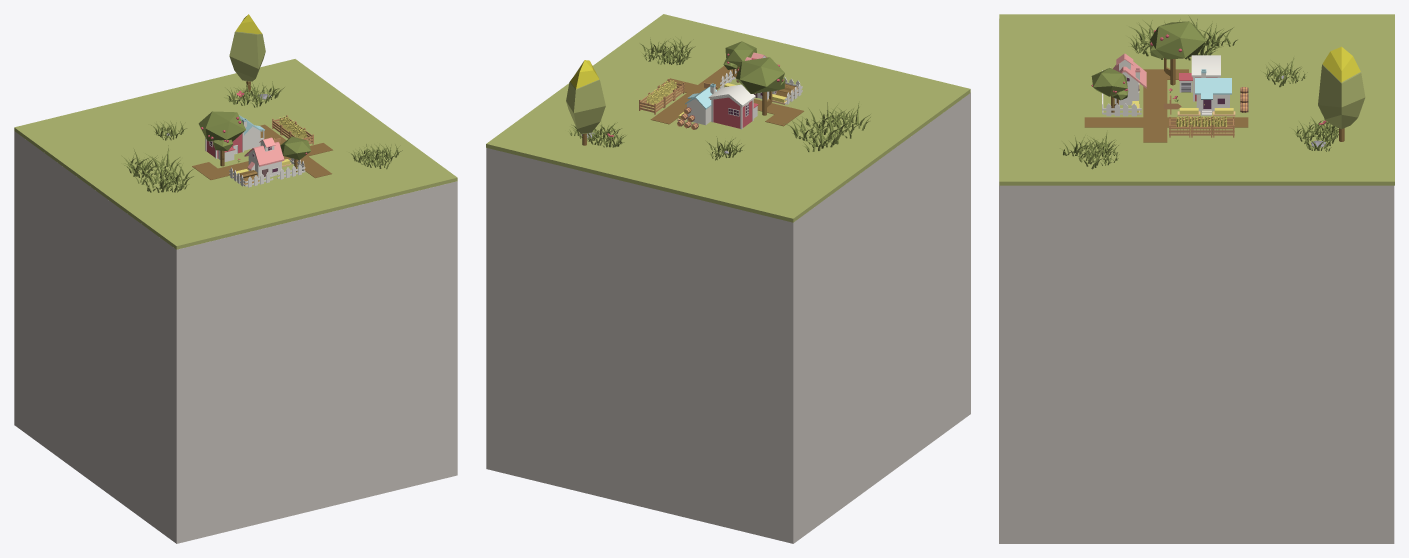
File: Country1.fbx
The picture shows the model from 3 angles, left to right: view 1: azimuth 30°, elevation 25°; view 2: azimuth 150°, elevation 25°; view 3: azimuth 270°, elevation 25°; orthographic projection. The views are drawn at different scales.
Visible parts, largest first — view 1: coun_1; view 2: coun_1; view 3: coun_1.
Boxes of the visible parts, x1,y1,x2,y2 form: coun_1: (14,14,457,543); coun_1: (486,14,970,543); coun_1: (999,14,1394,543).
Size of the model in its own units: 12 by 15.3 by 12.02.
